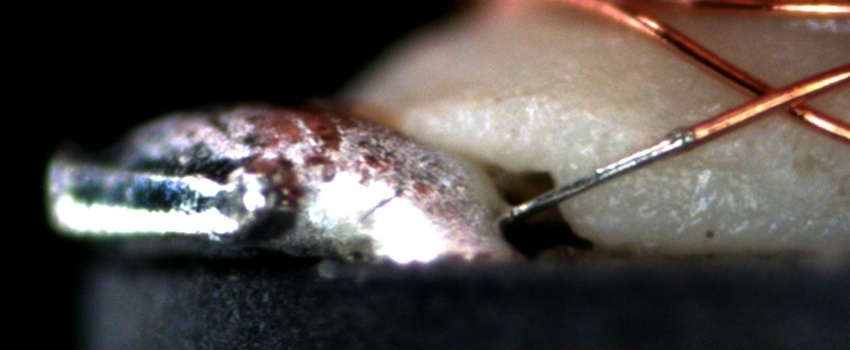CL: (728, 67, 830, 127)
DL: (618, 146, 748, 184)
TS: (506, 131, 696, 220)
TTCW: (506, 100, 758, 221)
